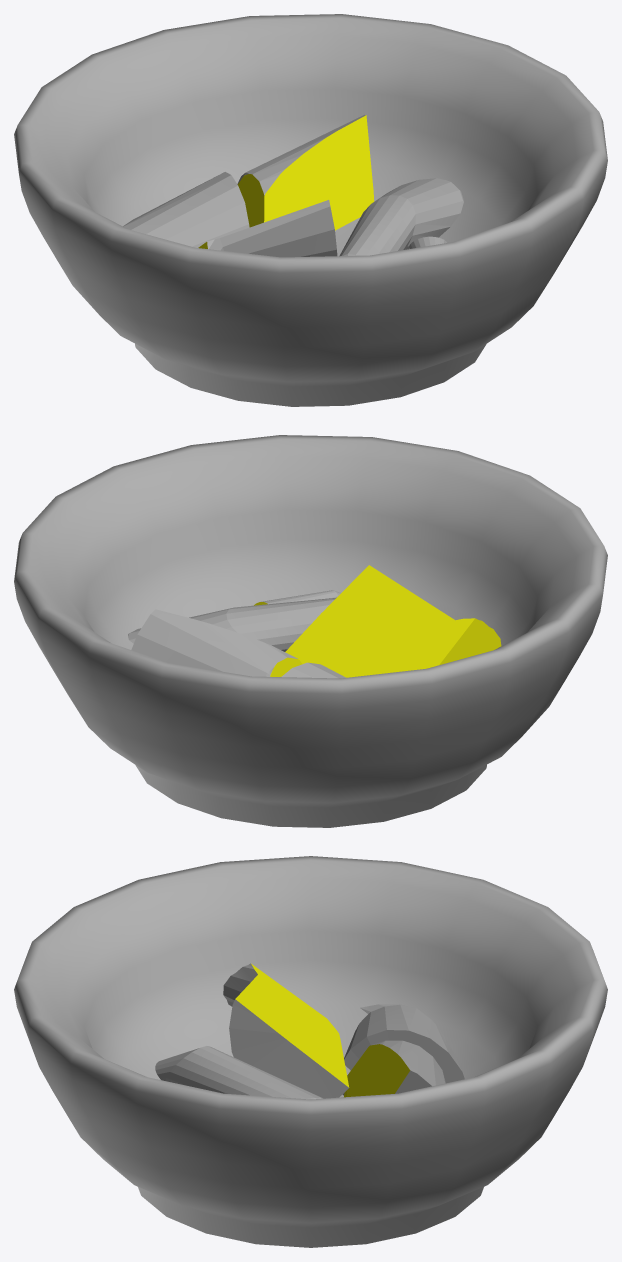
Rendered from CutTailInBowl.fbx.
3 renders of one model, top to bottom at view 1: azimuth 30°, elevation 25°; view 2: azimuth 150°, elevation 25°; view 3: azimuth 270°, elevation 25°, orthographic.
Parts seen in each view (by area): view 1: cuenco, shard9, shard7, shard10, shard8; view 2: cuenco, shard8, shard9, shard7, shard10; view 3: cuenco, shard8, shard7, shard10, shard9.
Part boxes in pixels (<box>): cuenco: <box>14,14,607,406</box>; shard9: <box>237,114,374,230</box>; shard7: <box>339,178,463,256</box>; shard10: <box>123,172,249,247</box>; shard8: <box>198,200,337,257</box>; cuenco: <box>14,435,607,827</box>; shard8: <box>285,565,501,677</box>; shard9: <box>131,609,302,676</box>; shard7: <box>128,597,336,651</box>; shard10: <box>281,662,345,678</box>; cuenco: <box>14,856,607,1247</box>; shard8: <box>223,963,349,1098</box>; shard7: <box>155,1046,322,1099</box>; shard10: <box>344,1004,464,1083</box>; shard9: <box>343,1040,445,1097</box>.
Size of the model in its own units: 44.38 by 16.08 by 44.38.
